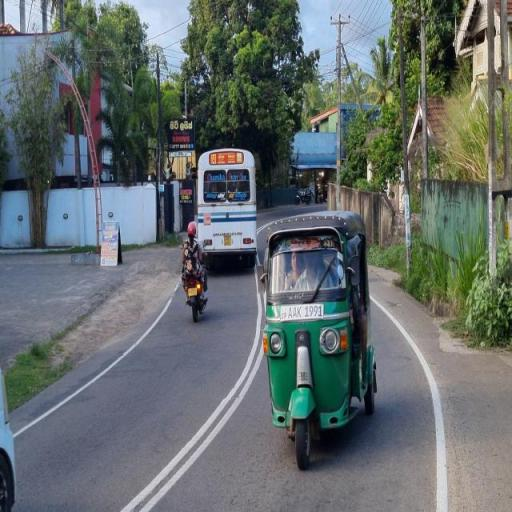double_white_line: (115, 341, 263, 510)
